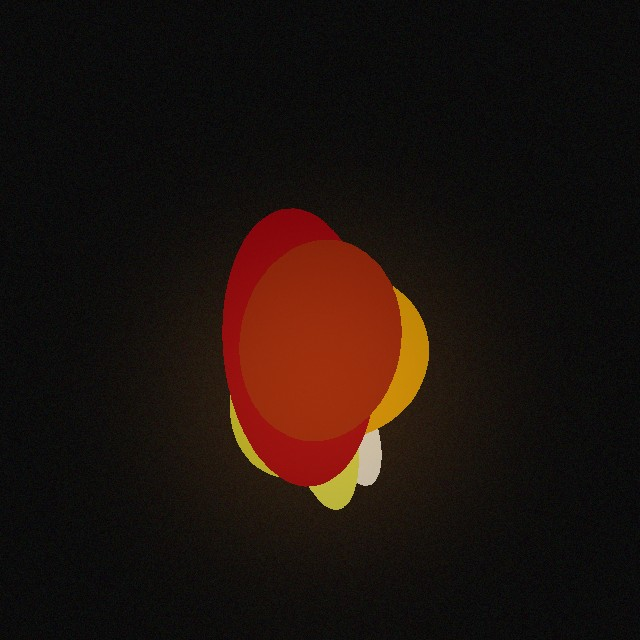fire: (225, 310, 415, 468)
